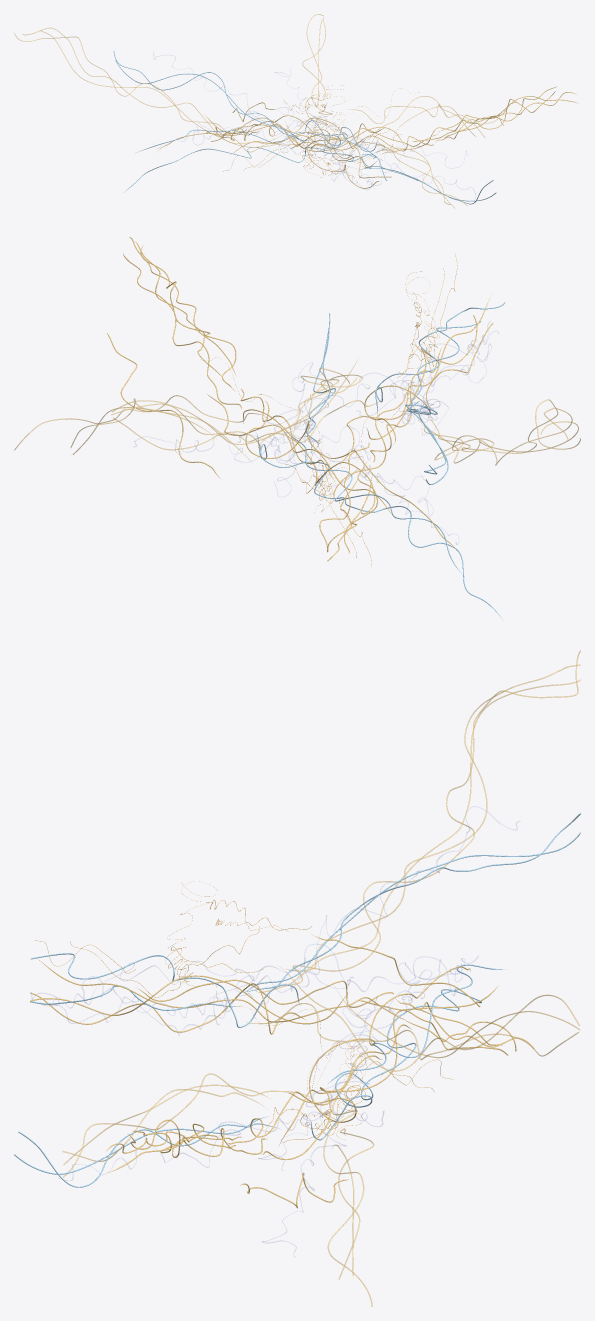
The model's file is www5.glb.
3 views of the same model, one above another, from view 1: azimuth 30°, elevation 25°; view 2: azimuth 150°, elevation 25°; view 3: azimuth 270°, elevation 25° (orthographic). The views are drawn at different scales.
Visible parts, largest first — view 1: 23-09-25 11-52-11nina.obj.020; view 2: 23-09-25 11-52-11nina.obj.020; view 3: 23-09-25 11-52-11nina.obj.020.
Boxes of the visible parts, bbox=[...] form: 23-09-25 11-52-11nina.obj.020: bbox=[14, 14, 578, 208]; 23-09-25 11-52-11nina.obj.020: bbox=[14, 237, 580, 619]; 23-09-25 11-52-11nina.obj.020: bbox=[14, 650, 580, 1306].
Size of the model in its own units: 221 by 79.48 by 139.
